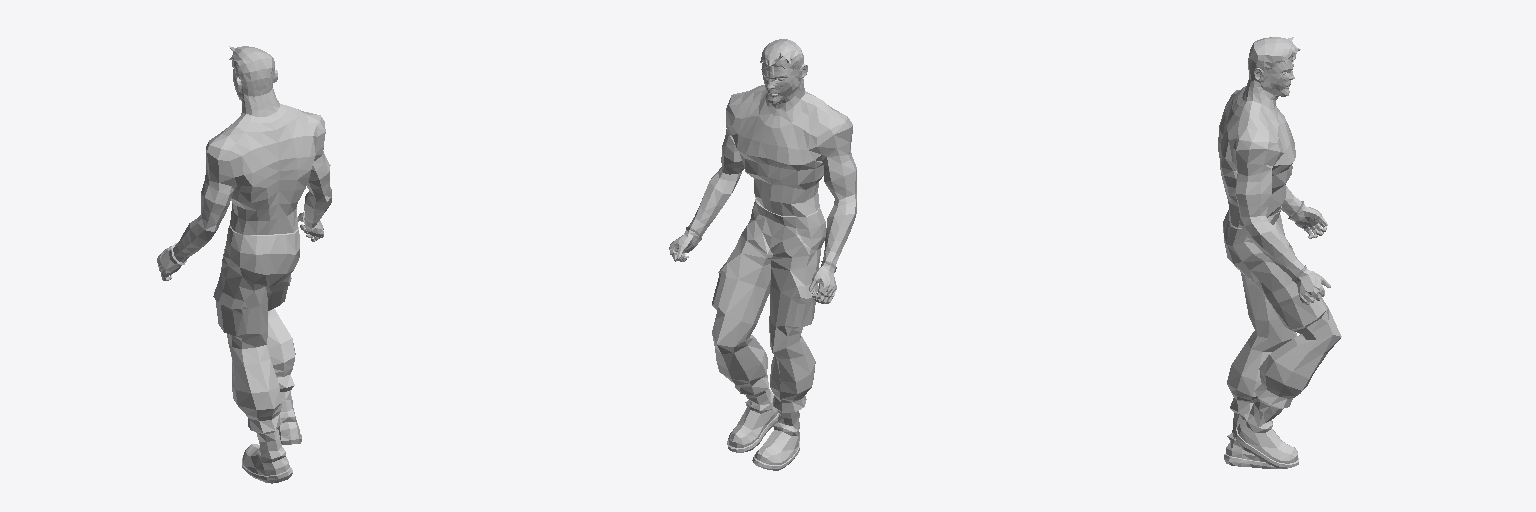
Rendered from superboy4_walk_69.obj.
3 views of the same model, side by side, from view 1: azimuth 30°, elevation 25°; view 2: azimuth 150°, elevation 25°; view 3: azimuth 270°, elevation 25° (orthographic).
Parts seen in each view (by area): view 1: Generic; view 2: Generic; view 3: Generic.
Boxes of the visible parts, <box> form: Generic: <box>157,46,331,483</box>; Generic: <box>669,39,856,470</box>; Generic: <box>1218,37,1341,468</box>.
Bounding box in the file's own units: 0.7674 × 1.92 × 0.5078.